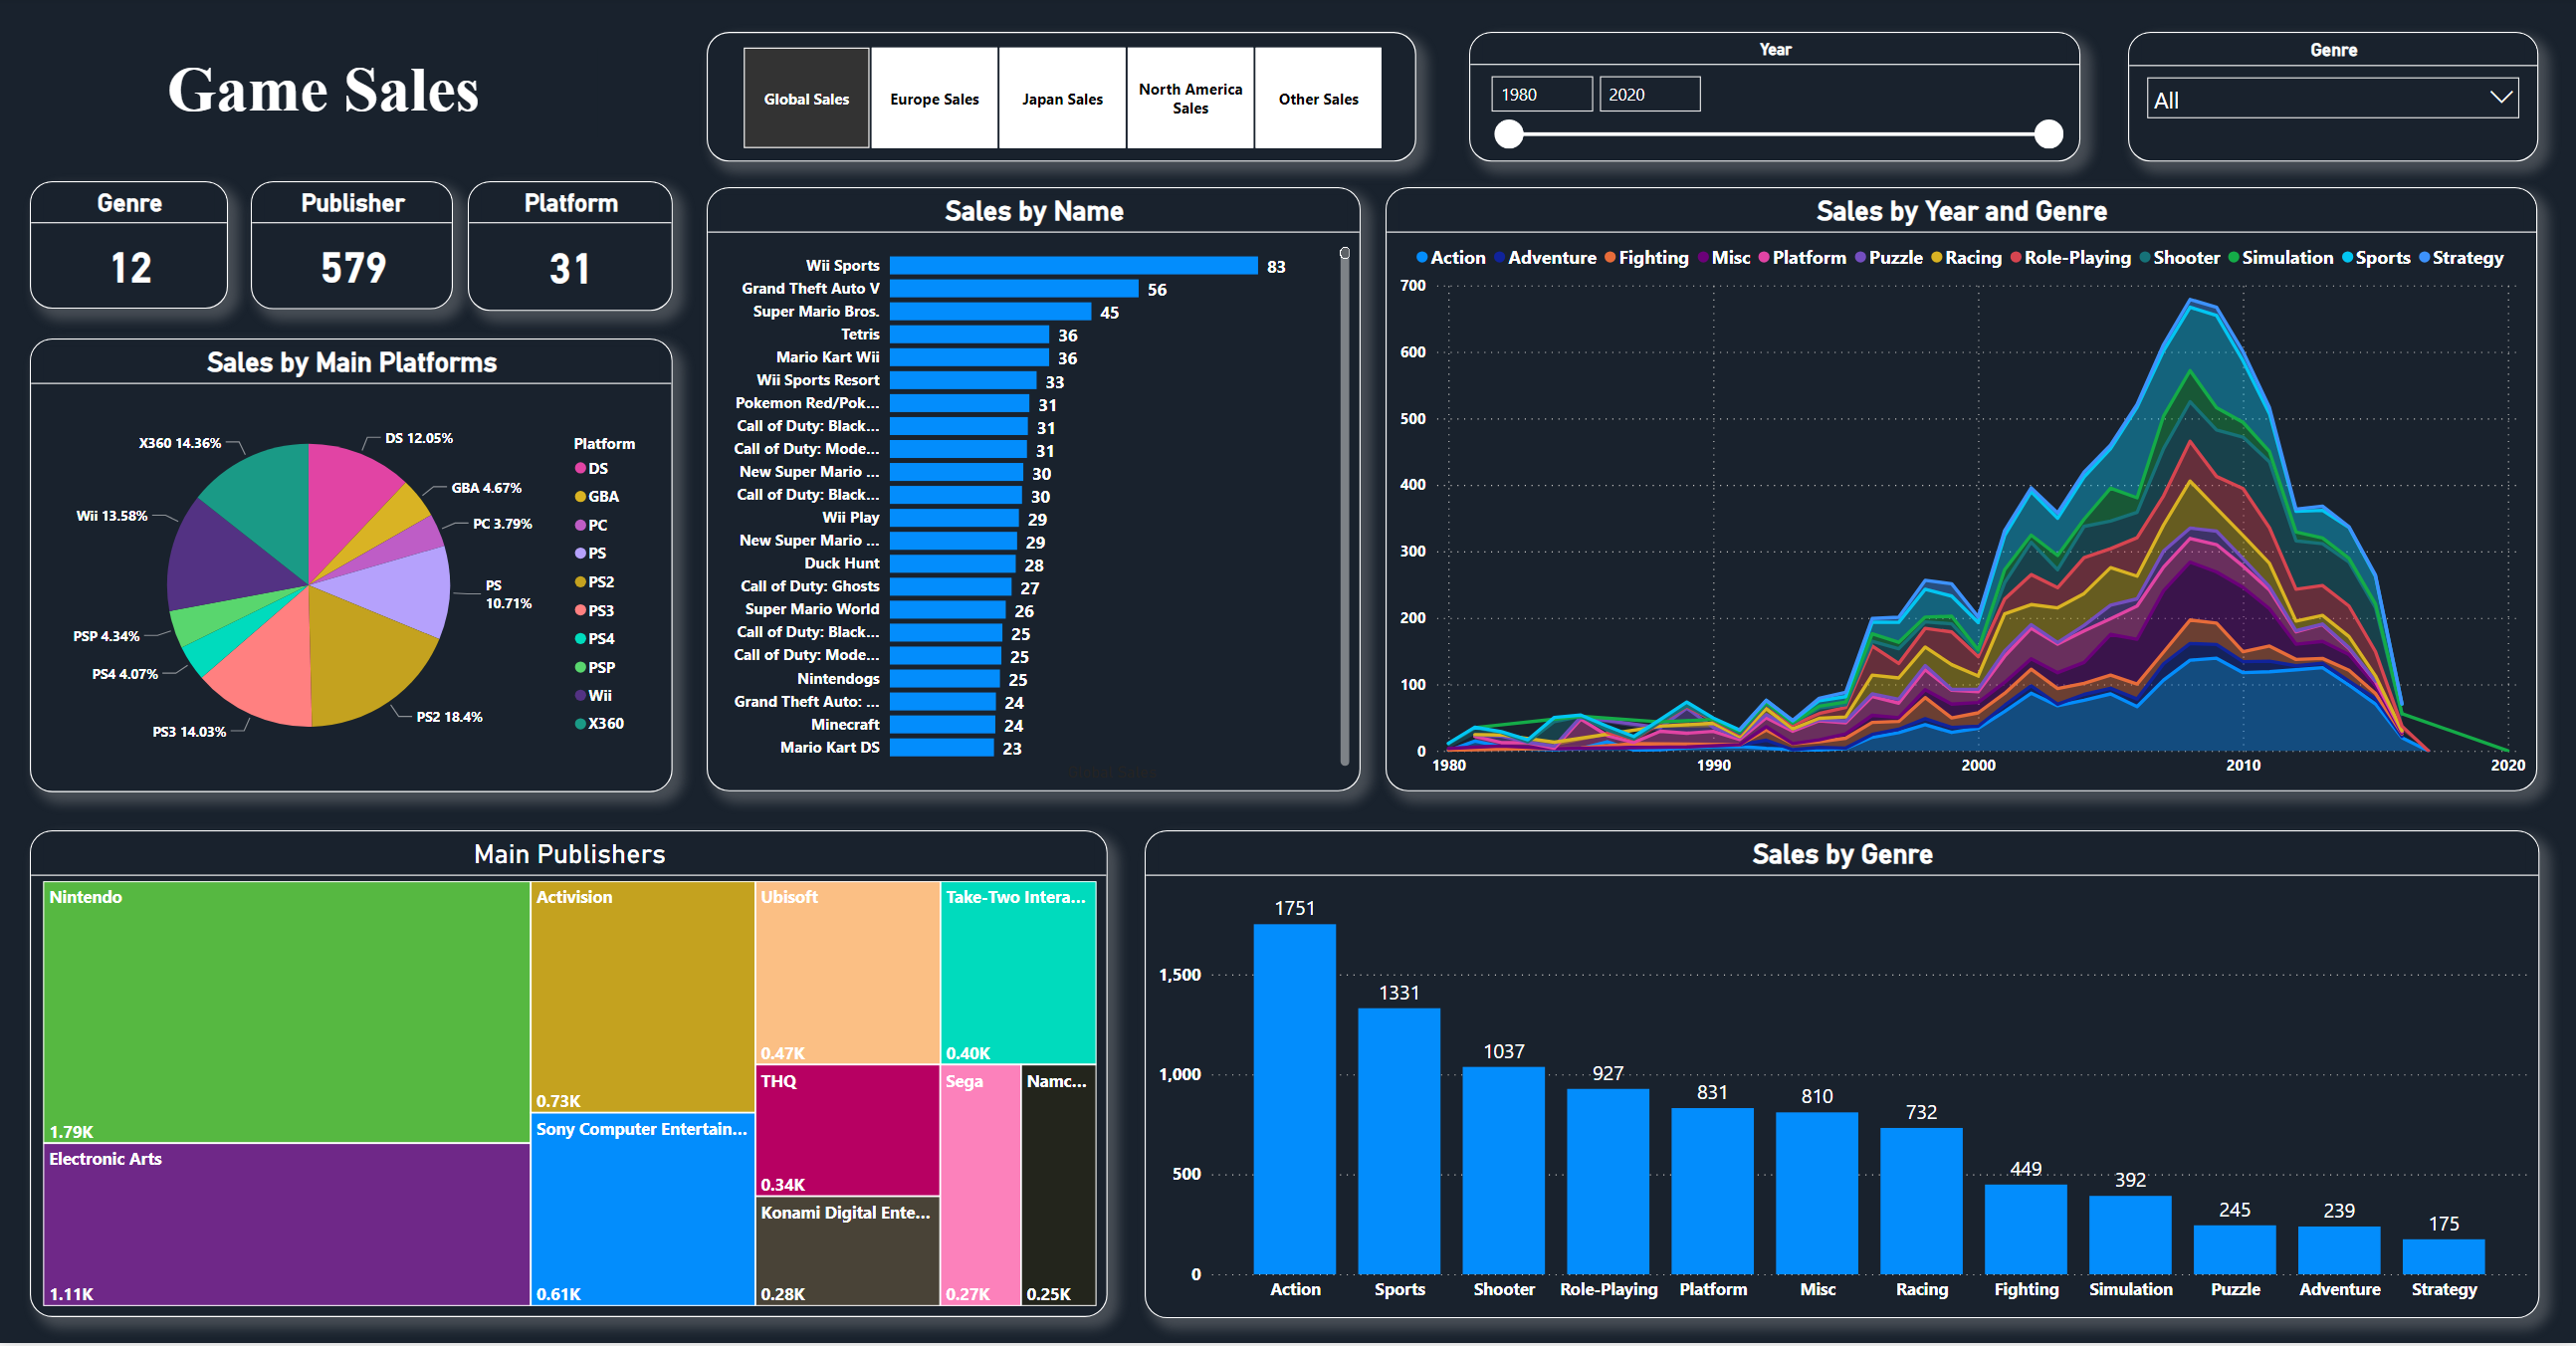

Layout of this report page (visuals, bound fields, positions):
{"tool":"powerbi","page":{"name":"Dashboard","canvas":[2300,1200],"ordinal":0},"visuals":[{"type":"slicer","fields":{"Values":["Sales_prm.Sales_prm"]},"box":[631.1,32.2,632.2,115.6],"z":0},{"type":"slicer","title":"Genre","fields":{"Values":["vgsales.Genre"]},"box":[1896.7,32.2,365.6,115.6],"z":1000},{"type":"clusteredColumnChart","title":"Sales by Genre","fields":{"Y":["Parameter.Japan Sales"],"Category":["vgsales.Genre"]},"box":[1021.1,743,1242.4,434.4],"z":2000},{"type":"barChart","title":"Sales by Name","fields":{"Y":["Parameter.Japan Sales"],"Category":["vgsales.Name"]},"box":[631.3,170.5,582.6,538],"z":3000},{"type":"treemap","title":"Main Publishers","fields":{"Values":["Parameter.Japan Sales"],"Group":["vgsales.Publisher"]},"box":[29,743.2,960,433.5],"z":4000},{"type":"pieChart","title":"Sales by Main Platforms","fields":{"Y":["Parameter.Japan Sales"],"Category":["vgsales.Platform"]},"box":[28.4,304.5,572.5,404],"z":5000},{"type":"slicer","title":"Year","fields":{"Values":["vgsales.Year"]},"box":[1311.1,32.2,544.4,115.6],"z":6000},{"type":"stackedAreaChart","title":"Sales by Year and Genre","fields":{"Y":["Parameter.Japan Sales"],"Category":["vgsales.Year"],"Series":["vgsales.Genre"]},"box":[1236.8,170.3,1025.8,538.1],"z":7000},{"type":"card","title":"Publisher","fields":{"Values":["Count(vgsales.Publisher)"]},"box":[224.5,164.5,180,114.2],"z":8000},{"type":"card","title":"Genre","fields":{"Values":["Count(vgsales.Genre)"]},"box":[28.4,164.4,176.6,113.7],"z":9000},{"type":"card","title":"Platform","fields":{"Values":["Count(vgsales.Platform)"]},"box":[418.2,164.4,182.7,115.7],"z":10000},{"type":"textbox","box":[45.6,45.6,487.8,78.9],"z":10001}]}

Visuals, with their boxes in screenshot pixels (x1, y1, x2, y2), scaled from the page's 2300x1200 canvas onto the 2576x1346 screenshot:
slicer - Sales_prm.Sales_prm: left=707, top=36, right=1414, bottom=166
"Genre" slicer: left=2124, top=36, right=2534, bottom=166
"Sales by Genre" clusteredColumnChart: left=1144, top=833, right=2535, bottom=1321
"Sales by Name" barChart: left=707, top=191, right=1360, bottom=794
"Main Publishers" treemap: left=33, top=833, right=1108, bottom=1320
"Sales by Main Platforms" pieChart: left=32, top=341, right=673, bottom=794
"Year" slicer: left=1468, top=36, right=2078, bottom=166
"Sales by Year and Genre" stackedAreaChart: left=1386, top=191, right=2534, bottom=794
"Publisher" card: left=252, top=184, right=453, bottom=313
"Genre" card: left=32, top=184, right=230, bottom=312
"Platform" card: left=469, top=184, right=673, bottom=315
textbox: left=51, top=51, right=597, bottom=139
